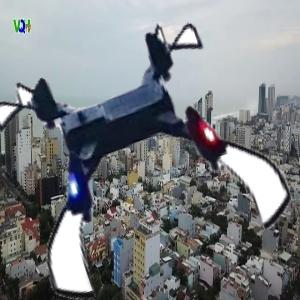drone: (13, 30, 275, 292)
